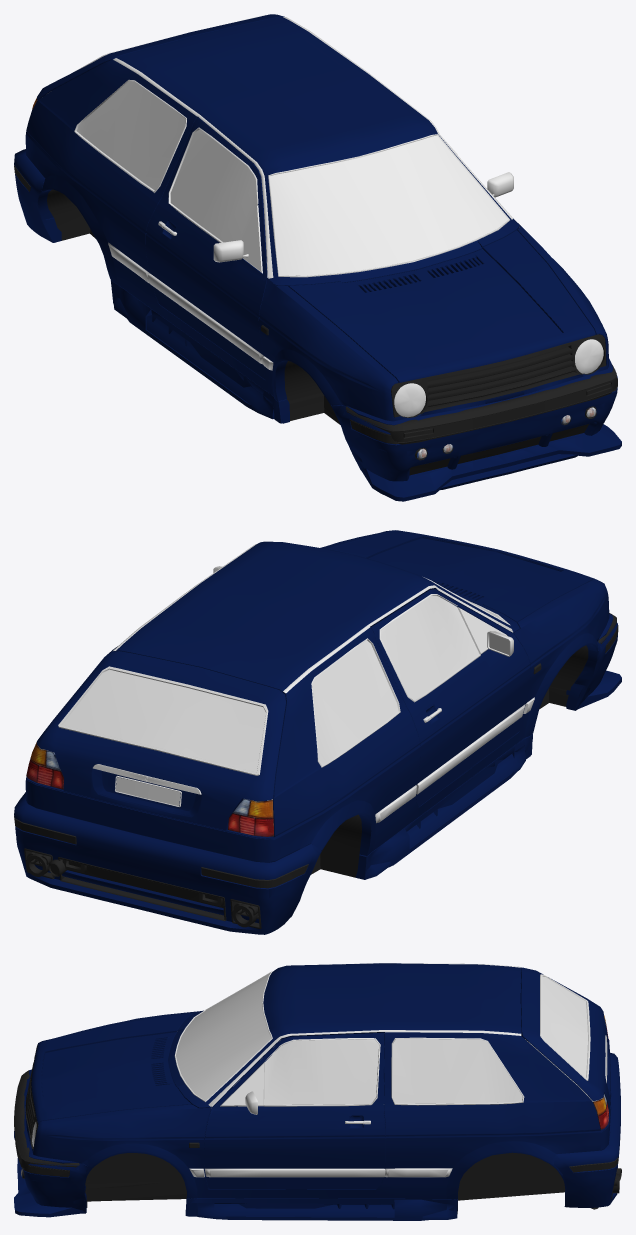
Rendered from Rabbit MK2.fbx.
3 views of the same model, one above another, from view 1: azimuth 30°, elevation 25°; view 2: azimuth 150°, elevation 25°; view 3: azimuth 270°, elevation 25° (orthographic). The views are drawn at different scales.
Parts seen in each view (by area): view 1: kit01_body, window, kit02_body, body, kit03_body, static_objects, kit02_objects, standart_objects, kit01_objects, front_lights_glass, kit03_objects; view 2: kit01_body, kit03_body, window, body, static_objects, kit02_body, kit03_objects, rear_lights, kit02_objects; view 3: kit01_body, window, kit03_body, static_objects, kit01_objects, kit02_body, standart_objects, kit03_objects, kit02_objects, rear_lights.
Part boxes in pixels (<box>): kit01_body: <box>26,14,621,501</box>; window: <box>76,81,508,275</box>; kit02_body: <box>15,59,617,489</box>; body: <box>26,56,603,417</box>; kit03_body: <box>14,88,605,476</box>; static_objects: <box>74,14,513,370</box>; kit02_objects: <box>14,166,617,475</box>; standart_objects: <box>261,325,616,444</box>; kit01_objects: <box>263,325,606,417</box>; front_lights_glass: <box>394,339,603,417</box>; kit03_objects: <box>14,165,604,453</box>; kit01_body: <box>26,530,621,879</box>; kit03_body: <box>14,537,616,934</box>; window: <box>62,594,504,772</box>; body: <box>105,530,606,861</box>; static_objects: <box>58,543,534,823</box>; kit02_body: <box>14,537,617,928</box>; kit03_objects: <box>14,631,615,928</box>; rear_lights: <box>26,742,273,836</box>; kit02_objects: <box>14,625,618,918</box>; kit01_body: <box>14,963,609,1219</box>; window: <box>176,973,587,1104</box>; kit03_body: <box>31,968,620,1220</box>; static_objects: <box>174,963,607,1177</box>; kit01_objects: <box>25,1056,564,1201</box>; kit02_body: <box>17,1032,614,1216</box>; standart_objects: <box>14,1045,621,1195</box>; kit03_objects: <box>24,1120,620,1213</box>; kit02_objects: <box>21,1048,617,1201</box>; rear_lights: <box>593,1015,608,1129</box>.
Size of the model in its own units: 1.86 by 1.31 by 4.06.
